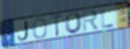J: (17, 20, 29, 42)
L: (101, 8, 115, 30)
O: (64, 12, 83, 35), (32, 18, 48, 40)
R: (82, 9, 100, 33)
T: (50, 14, 63, 38)
